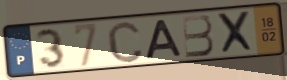3: (34, 27, 67, 69)
7: (73, 23, 101, 69)
A: (143, 18, 184, 61)
B: (180, 13, 217, 60)
C: (105, 19, 146, 65)
X: (215, 9, 258, 56)
